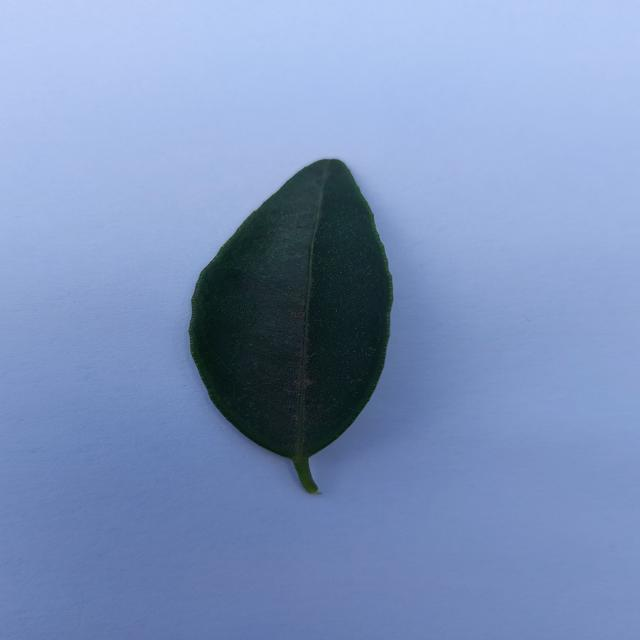greening: (189, 160, 392, 493)
